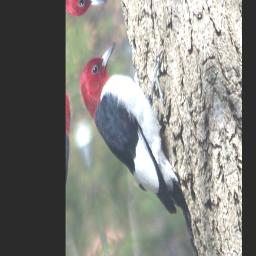Woodpecker: (74, 12, 198, 256)
